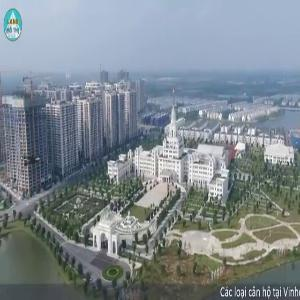drone: (7, 136, 62, 191)
